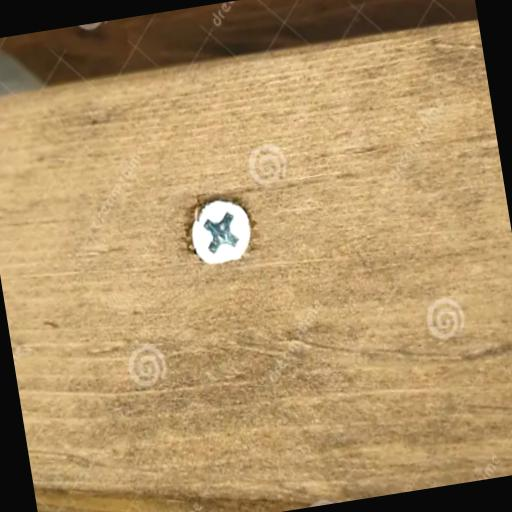Phillips: (182, 190, 256, 272)
